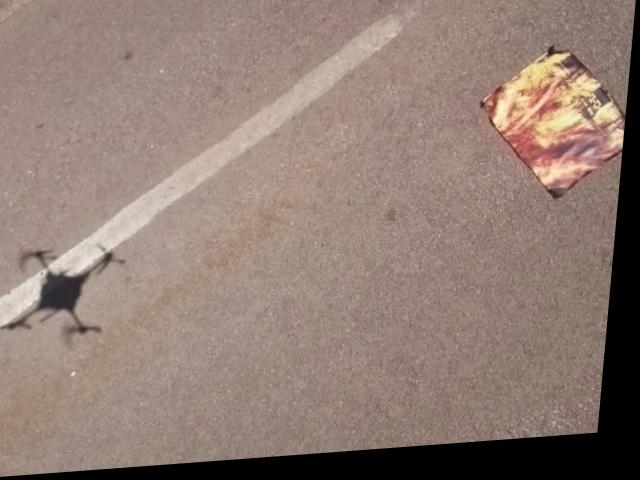fire-poster: (474, 48, 634, 214)
